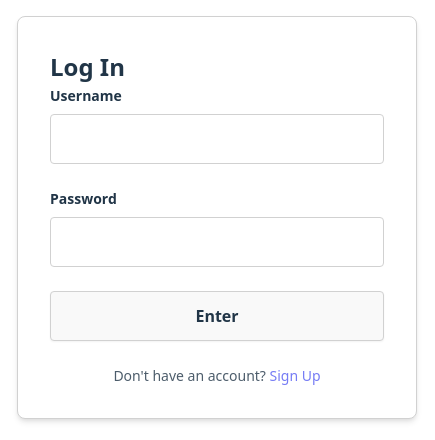
LoginForm › disables the submit button while submitting
In the field labelled "Username": (217, 139) [50,114,384,164], type "alice"
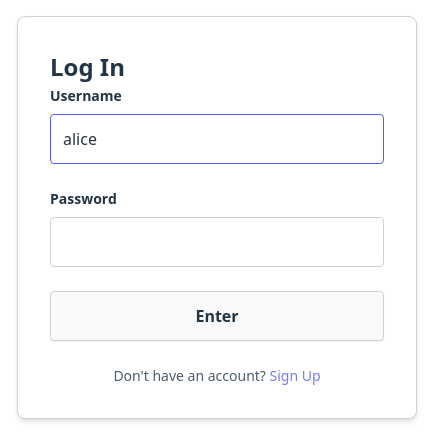
In the password field labelled "Password": (217, 242) [50,217,384,267], type "Password1"
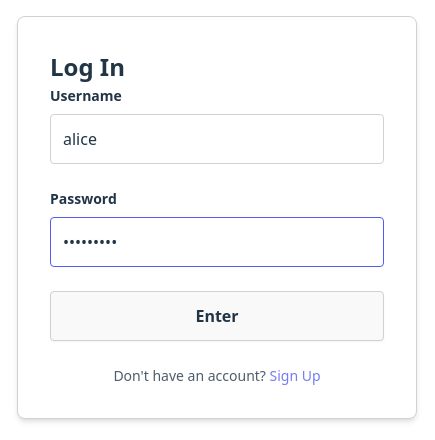
Click the button "Enter": (217, 316) [50,291,384,341]
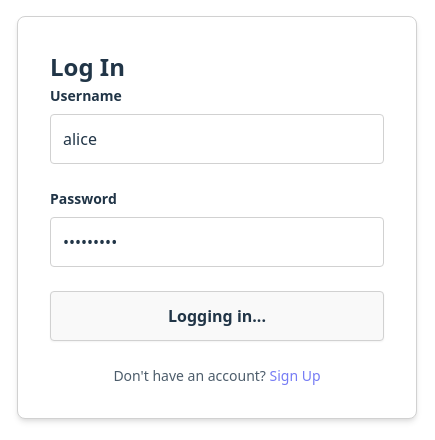
Expected: the button "Logging in..." is disabled, [50,291,384,341]
